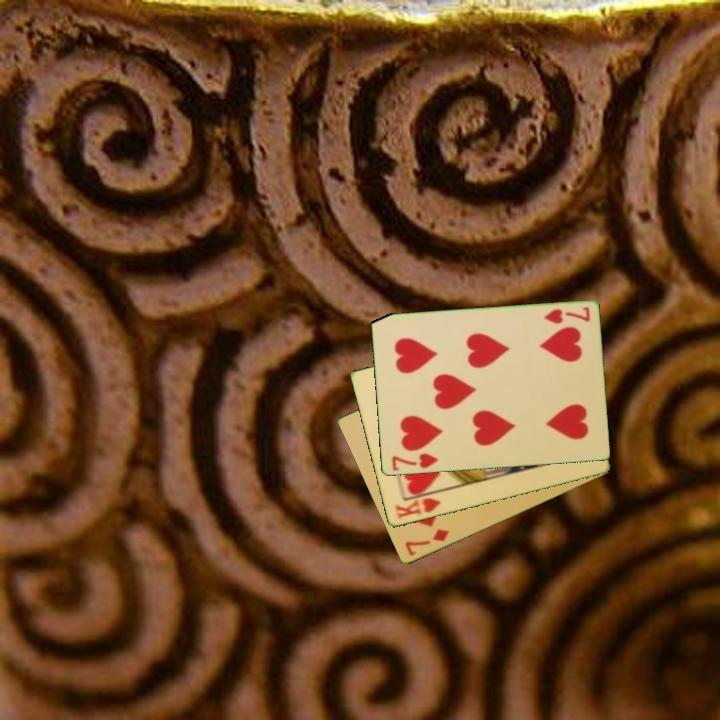7d: (401, 526, 451, 559)
7h: (388, 450, 441, 474), (540, 304, 593, 327)
Kh: (392, 488, 444, 523)
